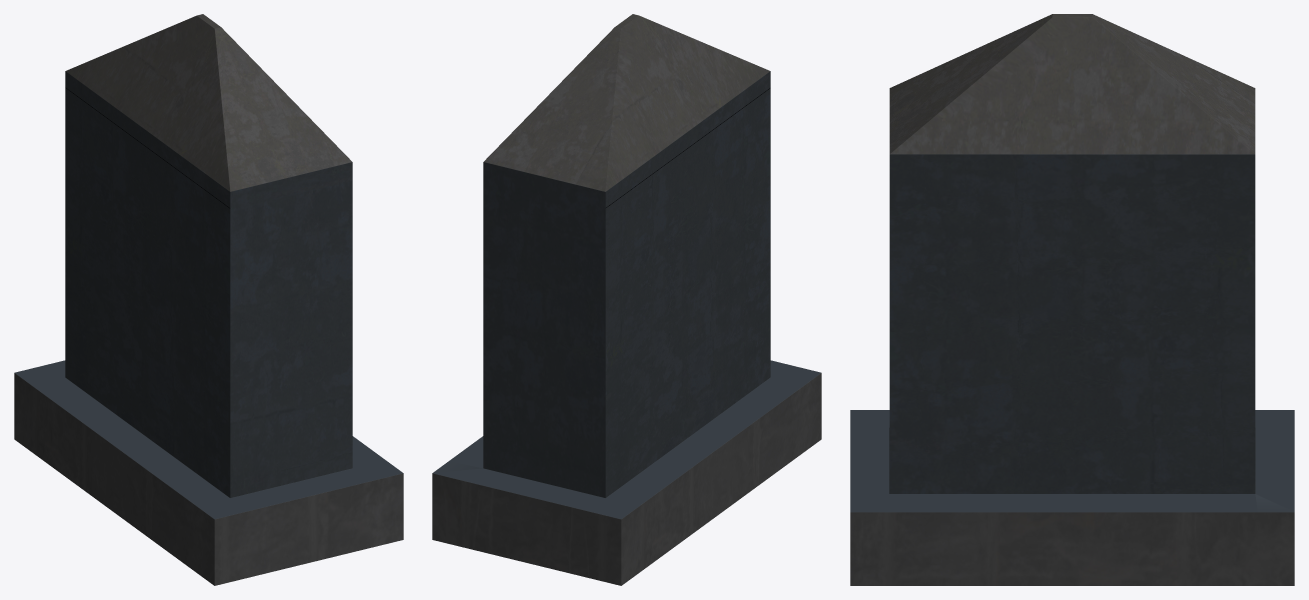
Rendered from Grave2.fbx.
The picture shows the model from 3 angles, left to right: view 1: azimuth 30°, elevation 25°; view 2: azimuth 150°, elevation 25°; view 3: azimuth 270°, elevation 25°; orthographic projection. The views are drawn at different scales.
Visible parts, largest first — view 1: Box001; view 2: Box001; view 3: Box001.
Part boxes in pixels (bbox=[...]): Box001: bbox=[14, 14, 403, 585]; Box001: bbox=[432, 14, 821, 585]; Box001: bbox=[850, 14, 1294, 585].
Bounding box in the file's own units: 36.15 × 85.47 × 66.32.
1 material, 1 textured.
